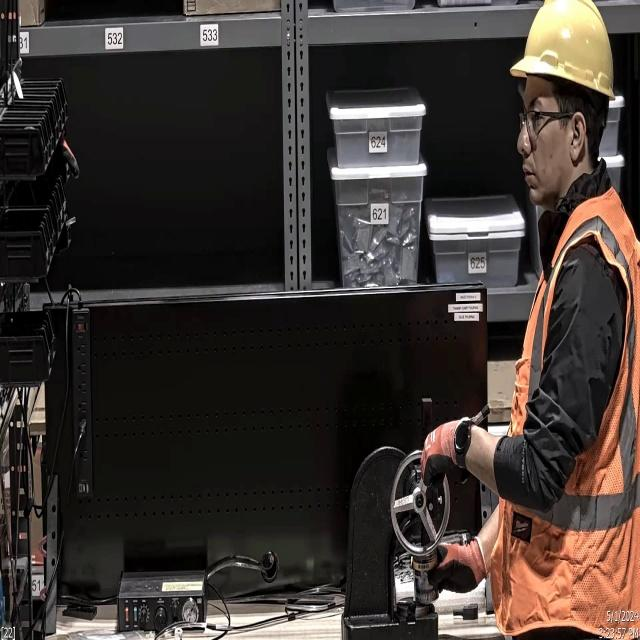gloves: (407, 532, 488, 618), (414, 414, 476, 495)
